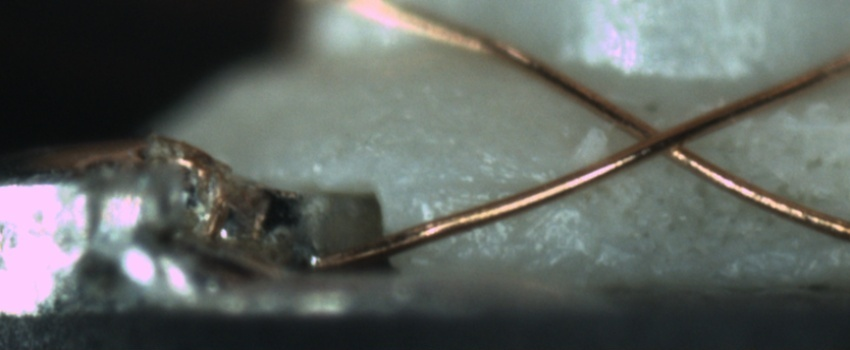CL: (614, 106, 717, 170)
DL: (413, 152, 552, 212)
TE: (62, 122, 274, 246)
